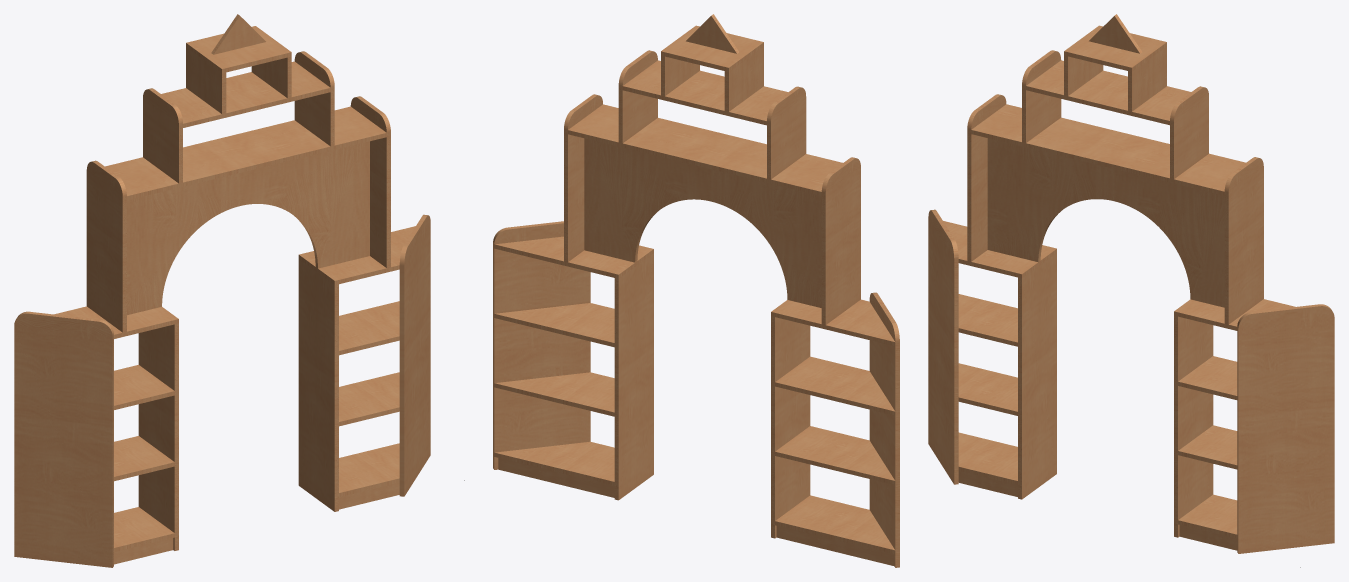
File: arka_ot_nabora_krepost.glb
3 views of the same model, side by side, from view 1: azimuth 30°, elevation 25°; view 2: azimuth 150°, elevation 25°; view 3: azimuth 330°, elevation 25° (orthographic). The views are drawn at different scales.
Visible parts, largest first — view 1: Shape_IndexedFaceSet.005, Shape_IndexedFaceSet.009, Shape_IndexedFaceSet.020, Shape_IndexedFaceSet.011, Shape_IndexedFaceSet.026, Shape_IndexedFaceSet.001, Shape_IndexedFaceSet.008, Shape_IndexedFaceSet.014, Shape_IndexedFaceSet.010, Shape_IndexedFaceSet.012, Shape_IndexedFaceSet.021, Shape_IndexedFaceSet.023 (+13 smaller); view 2: Shape_IndexedFaceSet.009, Shape_IndexedFaceSet.026, Shape_IndexedFaceSet.020, Shape_IndexedFaceSet.011, Shape_IndexedFaceSet.001, Shape_IndexedFaceSet.008, Shape_IndexedFaceSet.005, Shape_IndexedFaceSet.014, Shape_IndexedFaceSet.004, Shape_IndexedFaceSet.002, Shape_IndexedFaceSet.003, Shape_IndexedFaceSet.010 (+13 smaller); view 3: Shape_IndexedFaceSet.026, Shape_IndexedFaceSet.009, Shape_IndexedFaceSet.001, Shape_IndexedFaceSet.011, Shape_IndexedFaceSet.005, Shape_IndexedFaceSet.020, Shape_IndexedFaceSet.010, Shape_IndexedFaceSet.014, Shape_IndexedFaceSet.008, Shape_IndexedFaceSet.013, Shape_IndexedFaceSet.003, Shape_IndexedFaceSet.004 (+13 smaller).
Part boxes in pixels (x1,y1,x2,y2): Shape_IndexedFaceSet.005: (14,311,113,567); Shape_IndexedFaceSet.009: (127,141,369,315); Shape_IndexedFaceSet.020: (298,259,338,511); Shape_IndexedFaceSet.011: (105,106,386,200); Shape_IndexedFaceSet.026: (399,214,430,496); Shape_IndexedFaceSet.001: (138,323,178,550); Shape_IndexedFaceSet.008: (86,160,126,332); Shape_IndexedFaceSet.014: (161,61,330,127); Shape_IndexedFaceSet.010: (350,96,390,267); Shape_IndexedFaceSet.012: (143,88,182,183); Shape_IndexedFaceSet.021: (339,443,399,497); Shape_IndexedFaceSet.023: (339,301,399,355); Shape_IndexedFaceSet.009: (584,138,821,307); Shape_IndexedFaceSet.026: (493,221,590,469); Shape_IndexedFaceSet.020: (614,253,653,500); Shape_IndexedFaceSet.011: (568,104,842,195); Shape_IndexedFaceSet.001: (771,316,810,538); Shape_IndexedFaceSet.008: (821,157,860,325); Shape_IndexedFaceSet.005: (869,292,899,567); Shape_IndexedFaceSet.014: (622,60,787,125); Shape_IndexedFaceSet.004: (775,356,895,415); Shape_IndexedFaceSet.002: (775,495,895,554); Shape_IndexedFaceSet.003: (775,426,895,484); Shape_IndexedFaceSet.010: (564,94,602,262); Shape_IndexedFaceSet.026: (1237,304,1334,553); Shape_IndexedFaceSet.009: (987,138,1224,307); Shape_IndexedFaceSet.001: (1018,253,1056,499); Shape_IndexedFaceSet.011: (971,104,1245,195); Shape_IndexedFaceSet.005: (928,209,958,484); Shape_IndexedFaceSet.020: (1174,315,1213,537); Shape_IndexedFaceSet.010: (1224,157,1263,324); Shape_IndexedFaceSet.014: (1026,60,1190,125); Shape_IndexedFaceSet.008: (967,94,1006,261); Shape_IndexedFaceSet.013: (1170,86,1208,179); Shape_IndexedFaceSet.003: (958,363,1017,415); Shape_IndexedFaceSet.004: (958,294,1017,346).
Bounding box in the file's own units: 1603 × 1851 × 252.
Materials: 28 (27 with a texture image).
